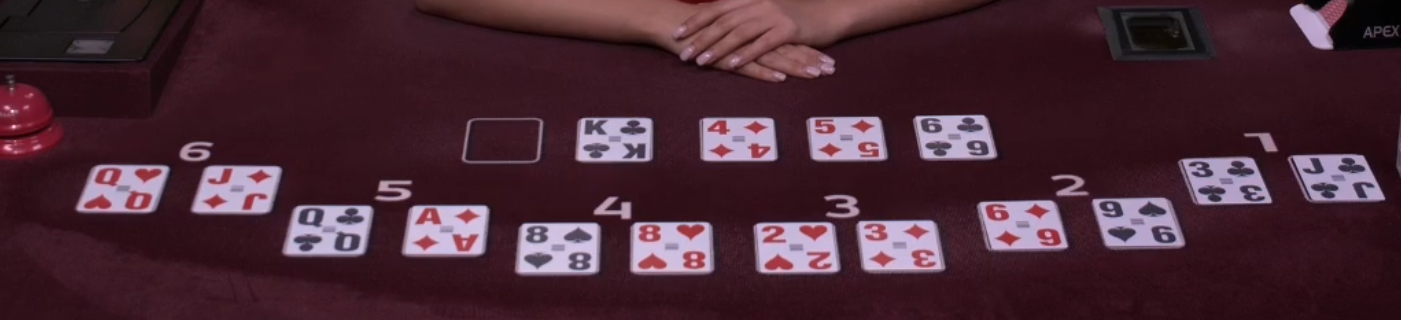2h: (749, 216, 846, 277)
3c: (1175, 151, 1276, 211)
3d: (850, 215, 956, 276)
4d: (698, 110, 784, 164)
5d: (798, 109, 892, 169)
6c: (910, 106, 1005, 168)
6d: (974, 195, 1073, 260)
8h: (622, 216, 718, 275)
8s: (512, 216, 608, 278)
9s: (1092, 194, 1189, 256)
asd: (404, 201, 490, 258)
jc: (1292, 151, 1385, 211)
jd: (194, 160, 282, 224)
kc: (575, 112, 661, 167)
qc: (282, 200, 375, 262)
qh: (75, 152, 169, 216)
